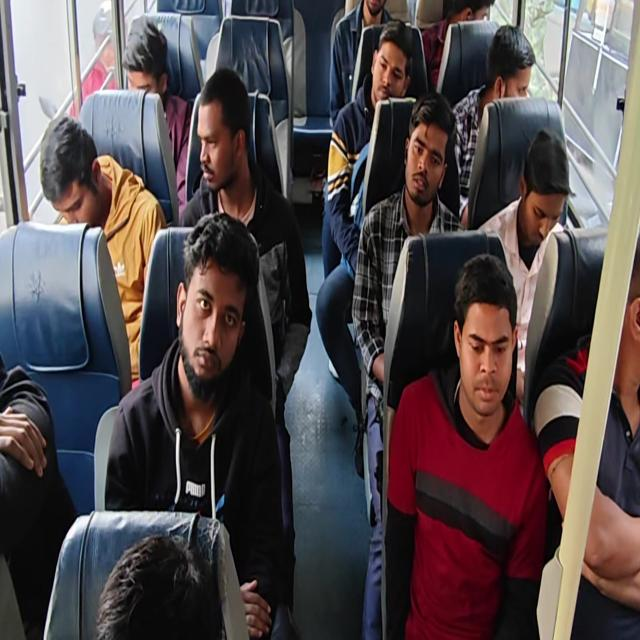person: (2, 1, 638, 638), (102, 210, 286, 638), (179, 66, 312, 620), (382, 252, 549, 638), (351, 90, 465, 638), (315, 19, 414, 474), (533, 228, 640, 638), (39, 114, 167, 387), (476, 127, 571, 407), (0, 351, 77, 638), (450, 23, 536, 226), (121, 14, 193, 220), (94, 532, 226, 639), (329, 0, 393, 128), (421, 0, 494, 93), (80, 1, 126, 104)
